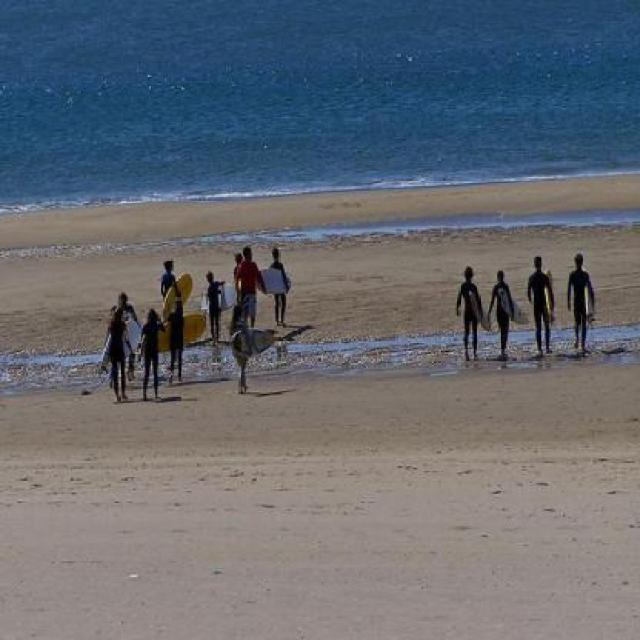Person: (125, 251, 242, 384), (564, 252, 594, 352), (525, 255, 553, 356), (134, 304, 164, 398), (454, 262, 481, 364), (232, 245, 266, 326), (107, 302, 135, 400), (485, 267, 513, 359), (228, 301, 252, 393), (163, 294, 182, 383), (267, 246, 288, 325), (204, 269, 224, 345), (114, 288, 138, 327), (158, 257, 179, 301)
